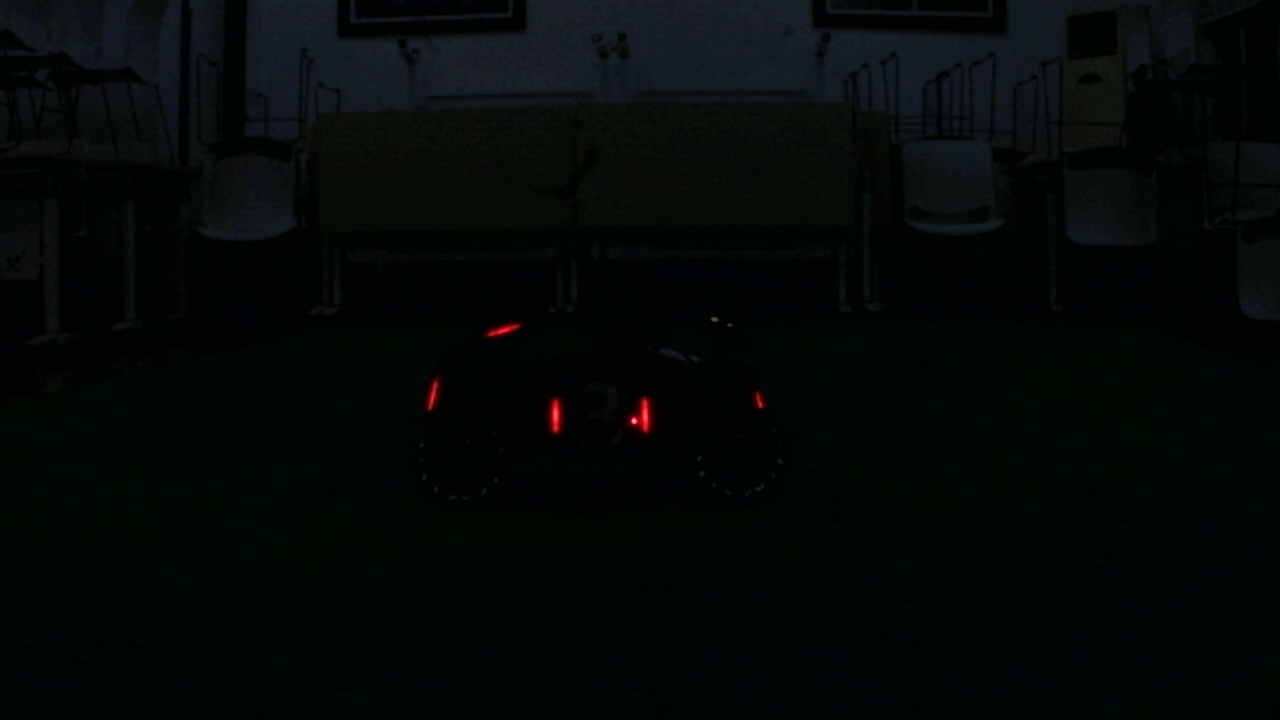lamp: (547, 397, 561, 432), (636, 397, 650, 432), (428, 375, 440, 412)
pair1: (552, 400, 652, 433)
